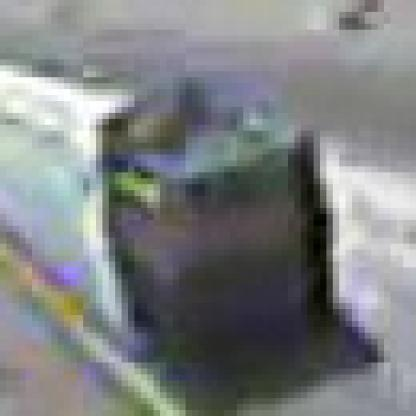container: (8, 61, 341, 352)
